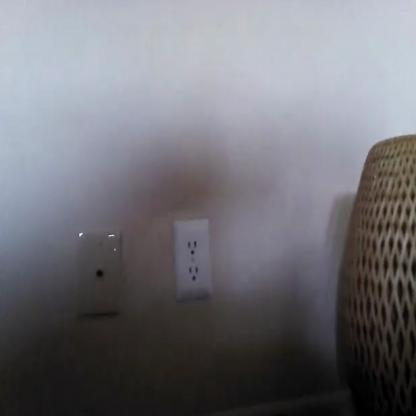OUTLET: (173, 219, 212, 298)
